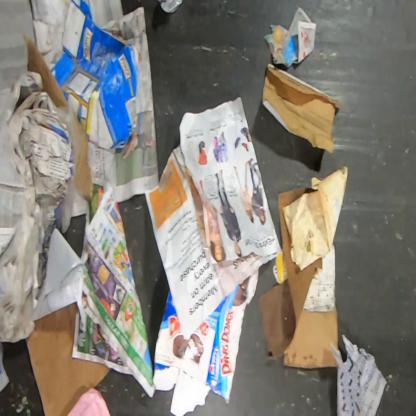cardboard: (152, 267, 259, 404), (258, 188, 338, 370), (49, 0, 138, 155), (23, 34, 93, 203), (25, 302, 110, 416), (263, 63, 341, 154)
